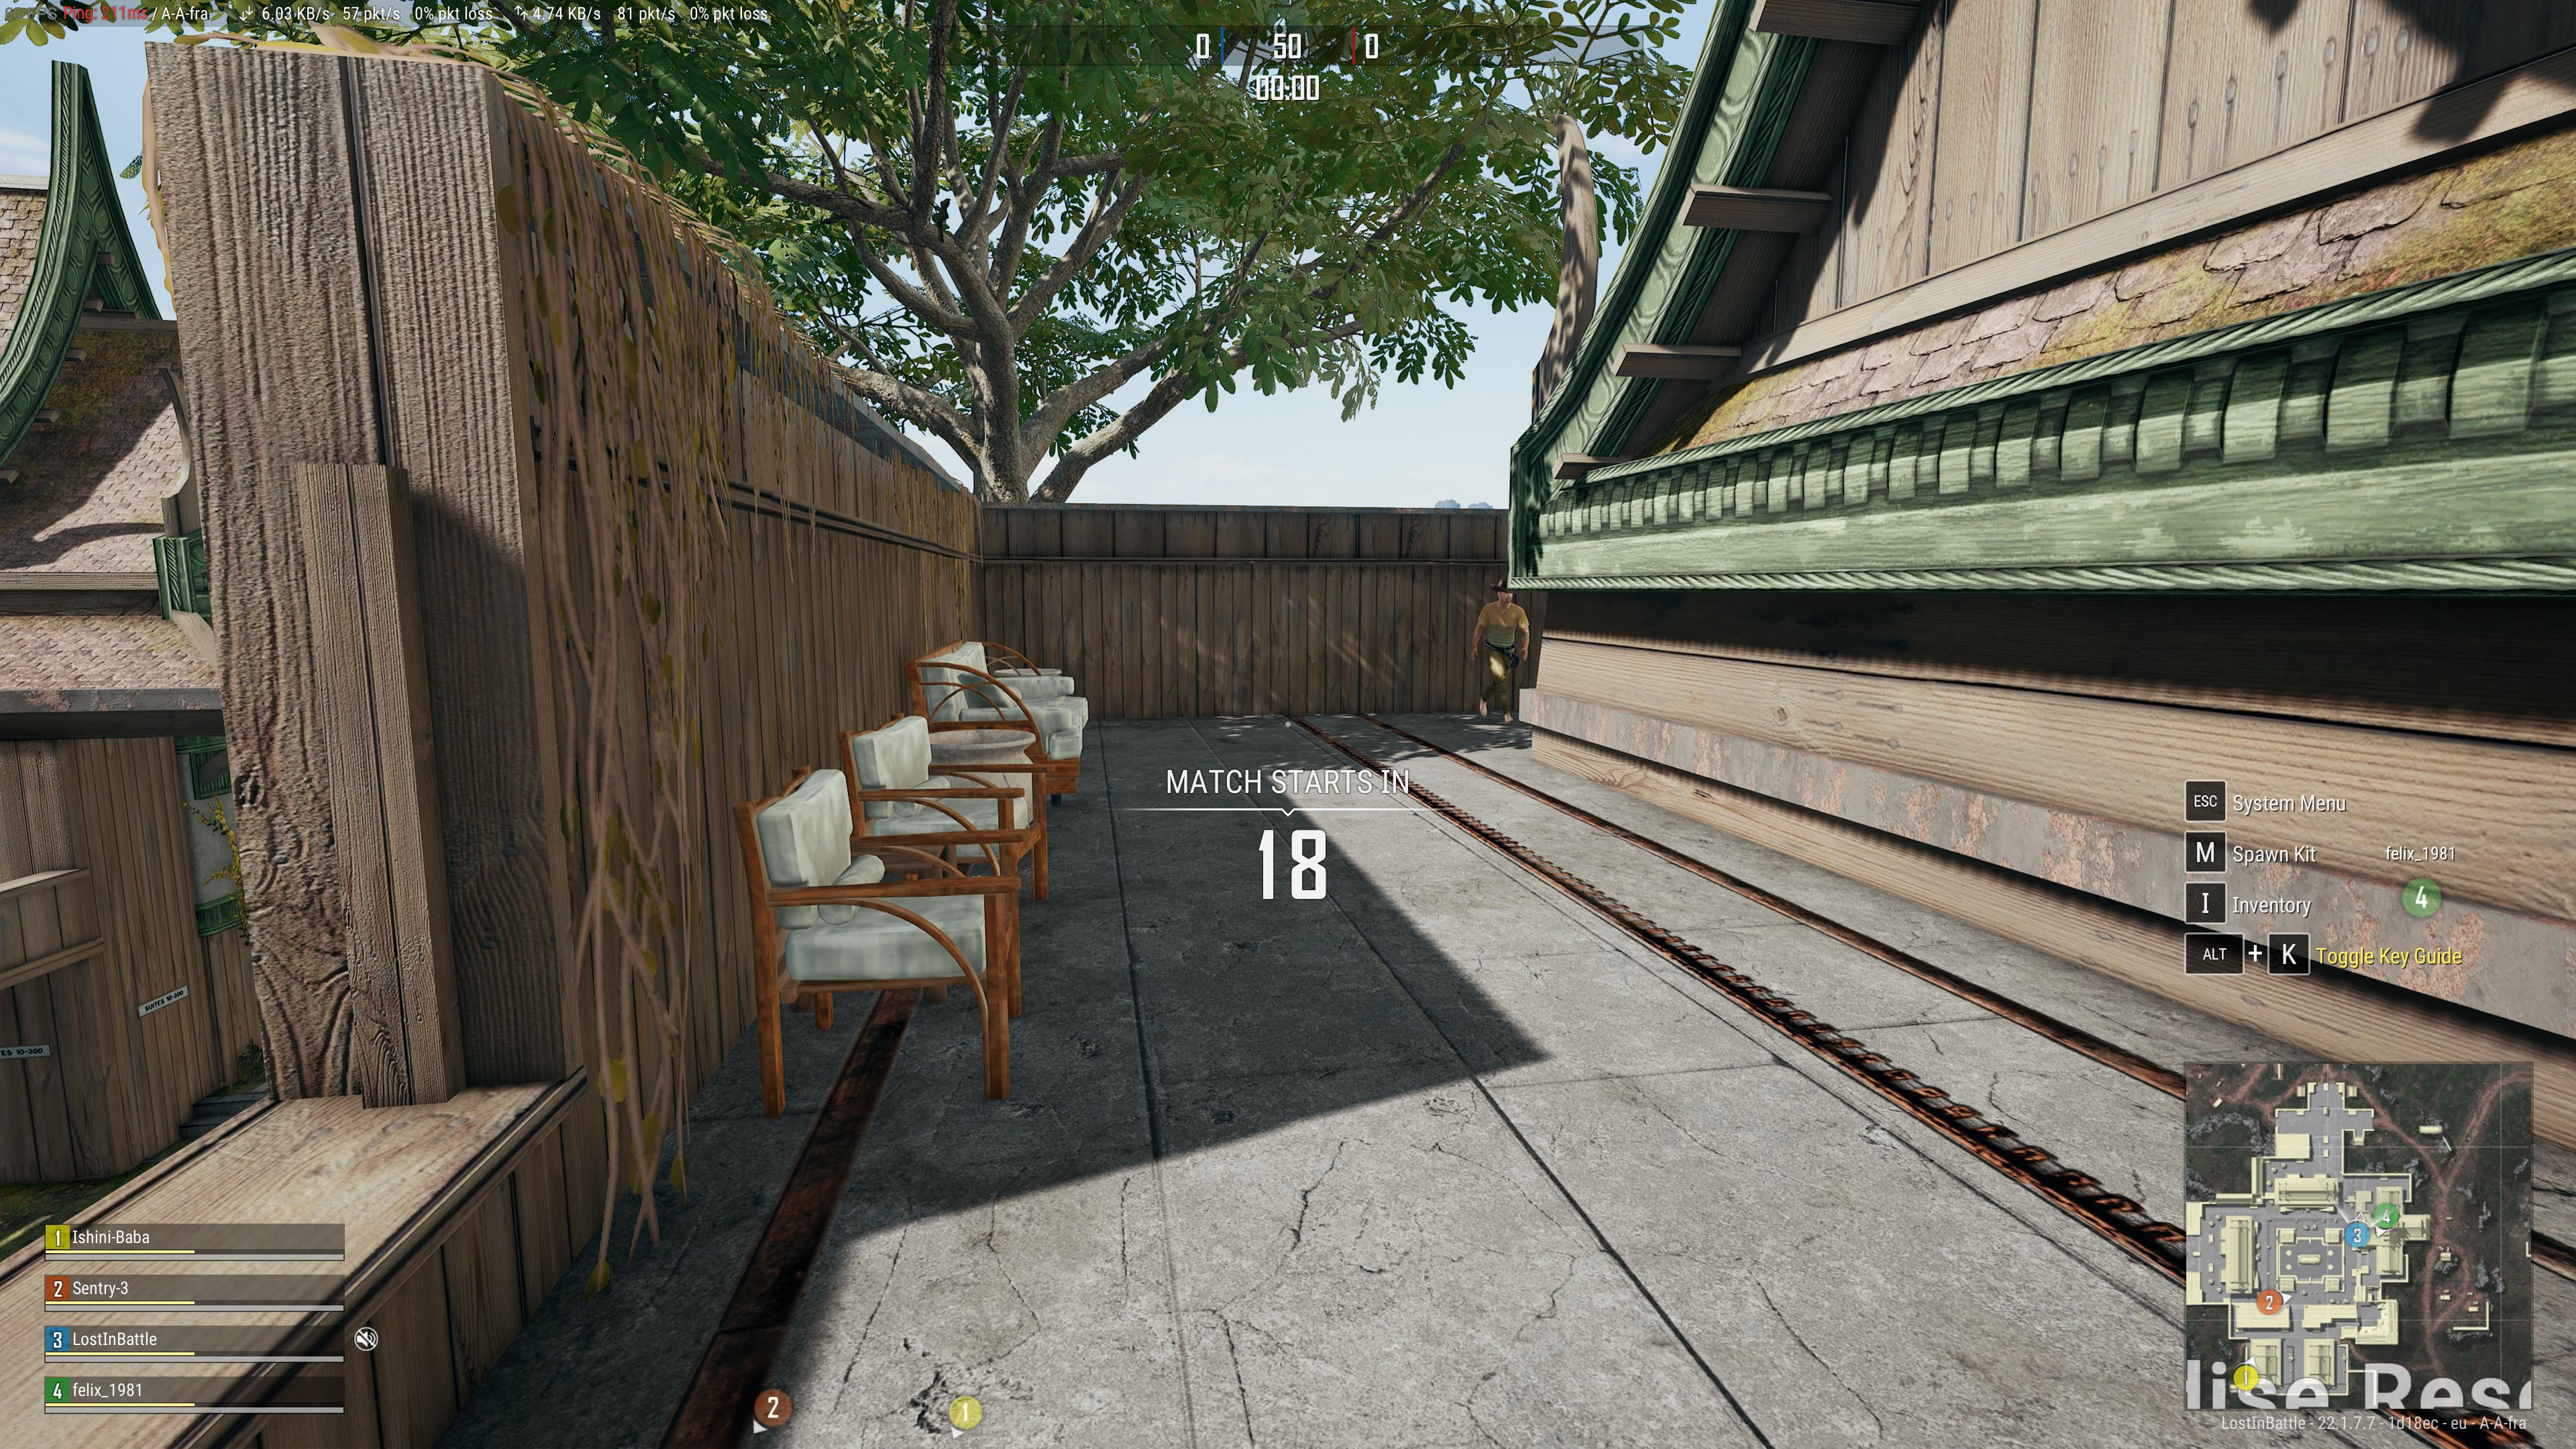enemy: (1468, 577, 1529, 725)
enemy_head: (1490, 577, 1518, 605)
